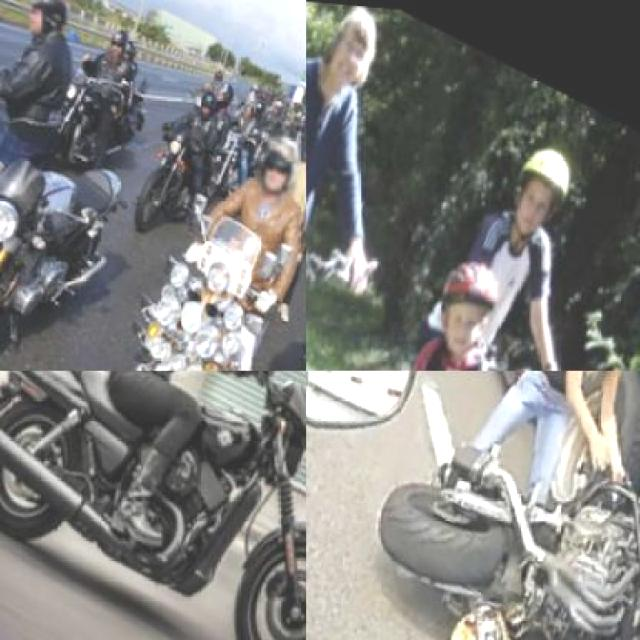With Helmet: (407, 237, 508, 358), (491, 120, 584, 237), (232, 116, 305, 216), (5, 0, 77, 51), (90, 11, 135, 63), (201, 68, 239, 114), (182, 78, 220, 124)
Without Helmet: (306, 0, 397, 106), (292, 126, 305, 182)
